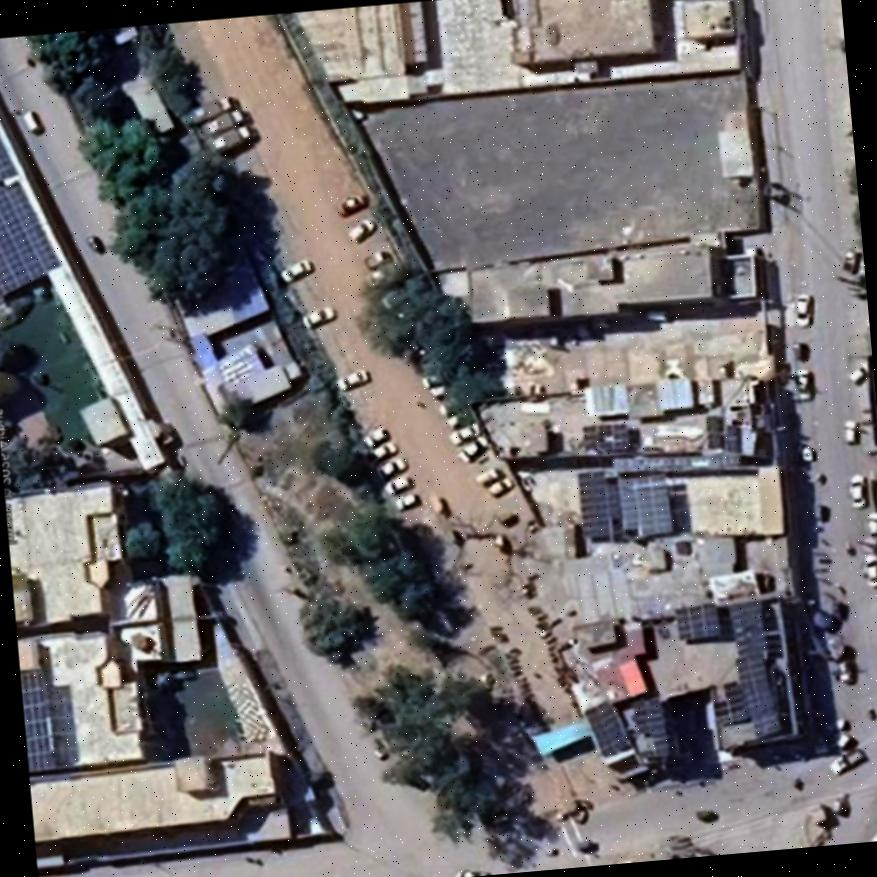Solarpanel: (0, 148, 59, 283), (578, 477, 671, 542), (20, 667, 54, 772), (736, 651, 778, 732), (584, 699, 629, 759), (725, 599, 766, 656), (673, 599, 719, 638), (629, 692, 665, 740), (580, 421, 627, 448)
